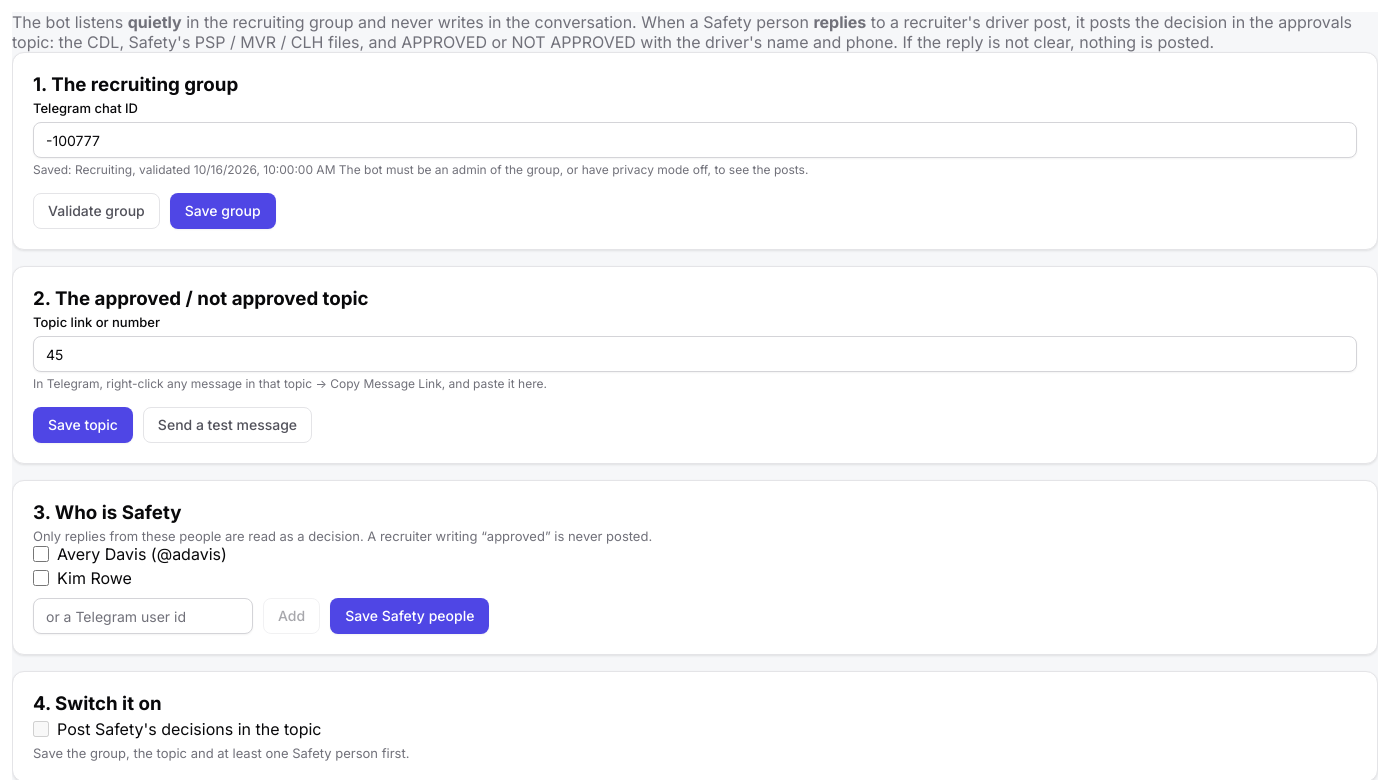
Scenario: a group the bot cannot read says so
What coordinates should you click on to do the following:
click the button "Validate group"
I would click on:
 (96, 211)
Its box is x1=33 y1=193 x2=160 y2=229.
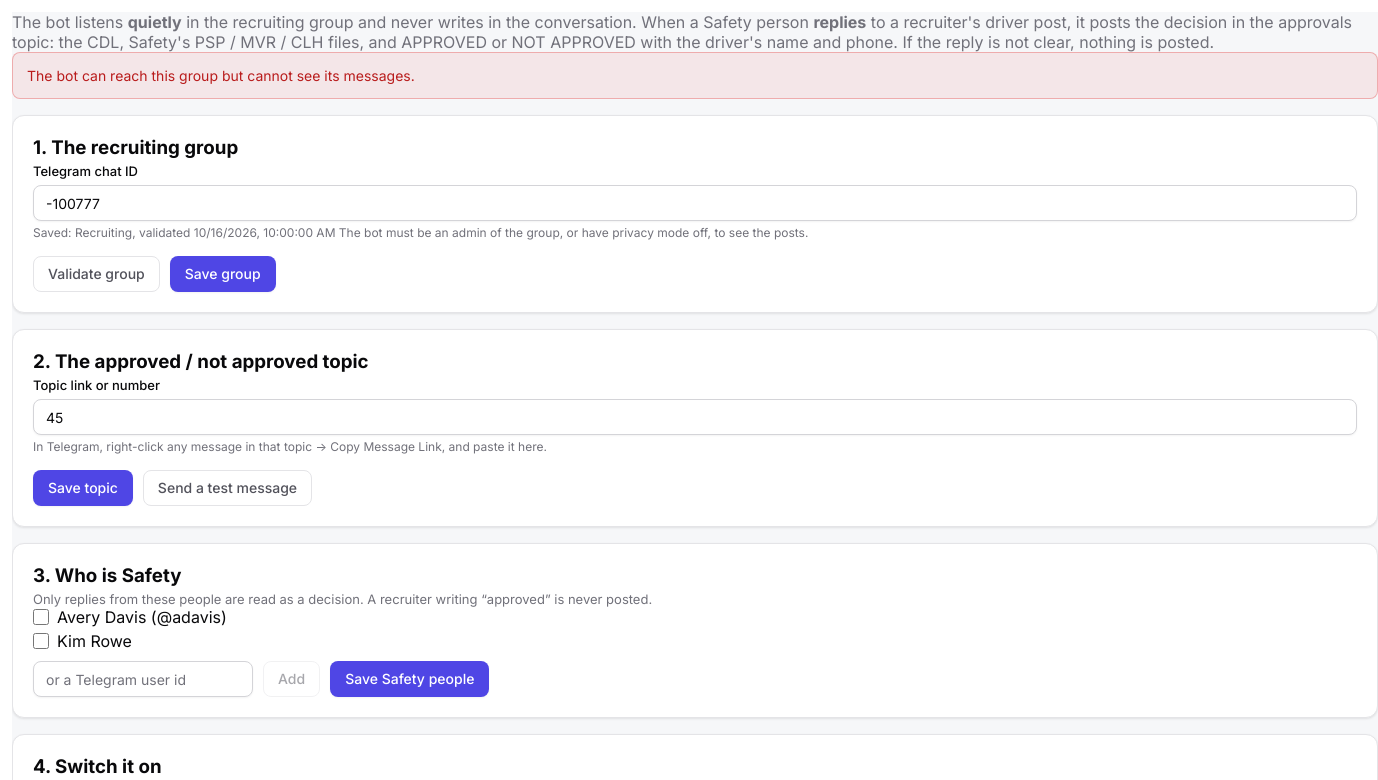
Expected: the text "The bot can reach this group but cannot see its messages." is shown, x1=12 y1=52 x2=1377 y2=99
